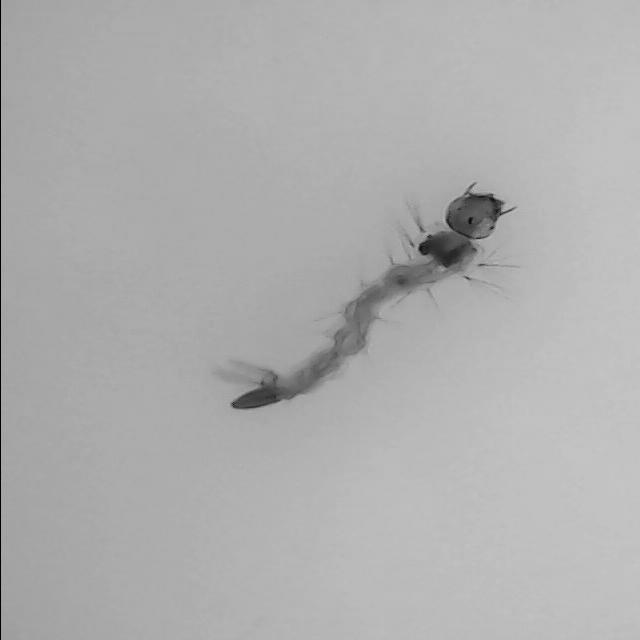larvas: (235, 195, 515, 410)
